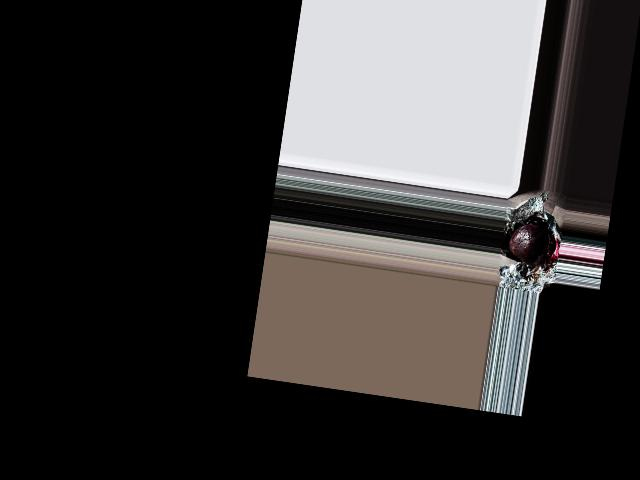beet: (506, 221, 551, 268)
